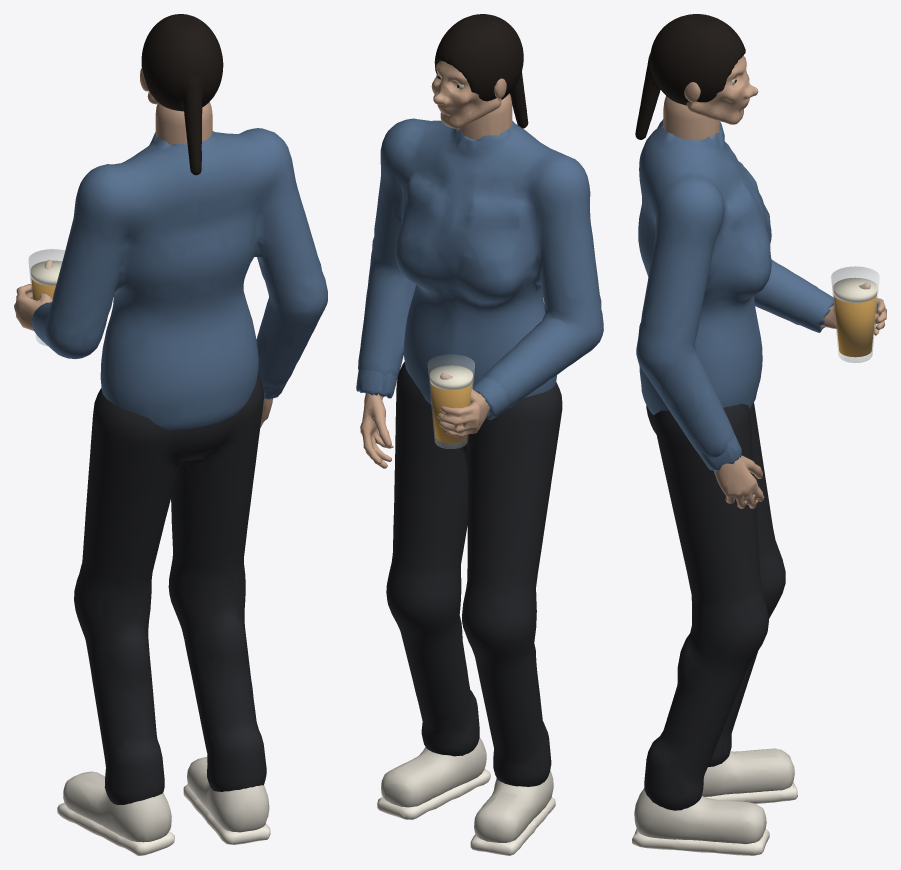
Rendered from patron_d.glb.
3 renders of one model, left to right at view 1: azimuth 30°, elevation 25°; view 2: azimuth 150°, elevation 25°; view 3: azimuth 270°, elevation 25°, orthographic. The views are drawn at different scales.
Parts seen in each view (by area): view 1: patron_d_body, patron_d_head, patron_d_hands, pint, pint_foam; view 2: patron_d_body, patron_d_head, patron_d_hands, pint, pint_beer, pint_foam; view 3: patron_d_body, patron_d_head, patron_d_hands, pint, pint_beer, pint_foam.
Boxes of the visible parts, left/top/right/bottom form: patron_d_body: left=34, top=102, right=327, bottom=855; patron_d_head: left=140, top=14, right=223, bottom=175; patron_d_hands: left=14, top=259, right=287, bottom=427; pint: left=28, top=249, right=64, bottom=345; pint_foam: left=30, top=260, right=62, bottom=285; patron_d_body: left=358, top=93, right=603, bottom=855; patron_d_head: left=431, top=14, right=528, bottom=128; patron_d_hands: left=356, top=368, right=511, bottom=468; pint: left=427, top=354, right=474, bottom=448; pint_beer: left=430, top=382, right=472, bottom=443; pint_foam: left=429, top=365, right=472, bottom=389; patron_d_body: left=632, top=96, right=817, bottom=855; patron_d_head: left=635, top=14, right=758, bottom=139; patron_d_hands: left=697, top=282, right=886, bottom=508; pint: left=831, top=266, right=879, bottom=362; pint_beer: left=834, top=295, right=876, bottom=357; pint_foam: left=833, top=277, right=877, bottom=302.
Bounding box in the file's own units: 0.5106 × 1.56 × 0.4493.
